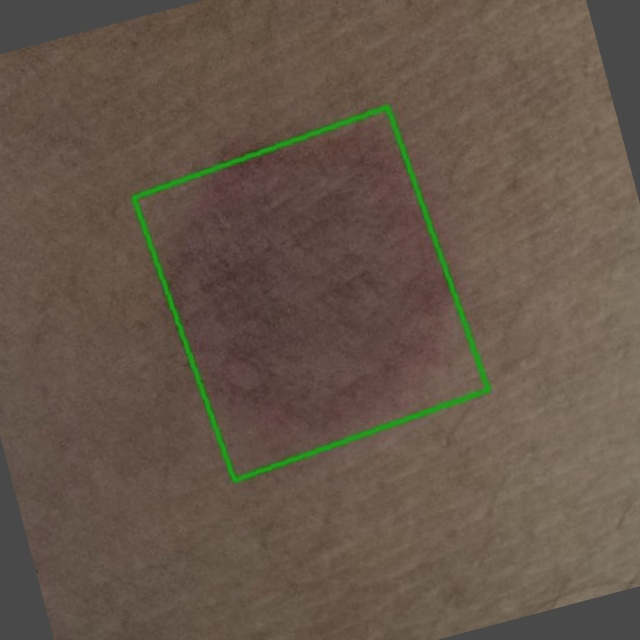Eczema: (133, 106, 488, 479)
